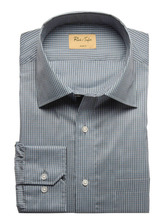clothoes: (11, 7, 158, 217)
